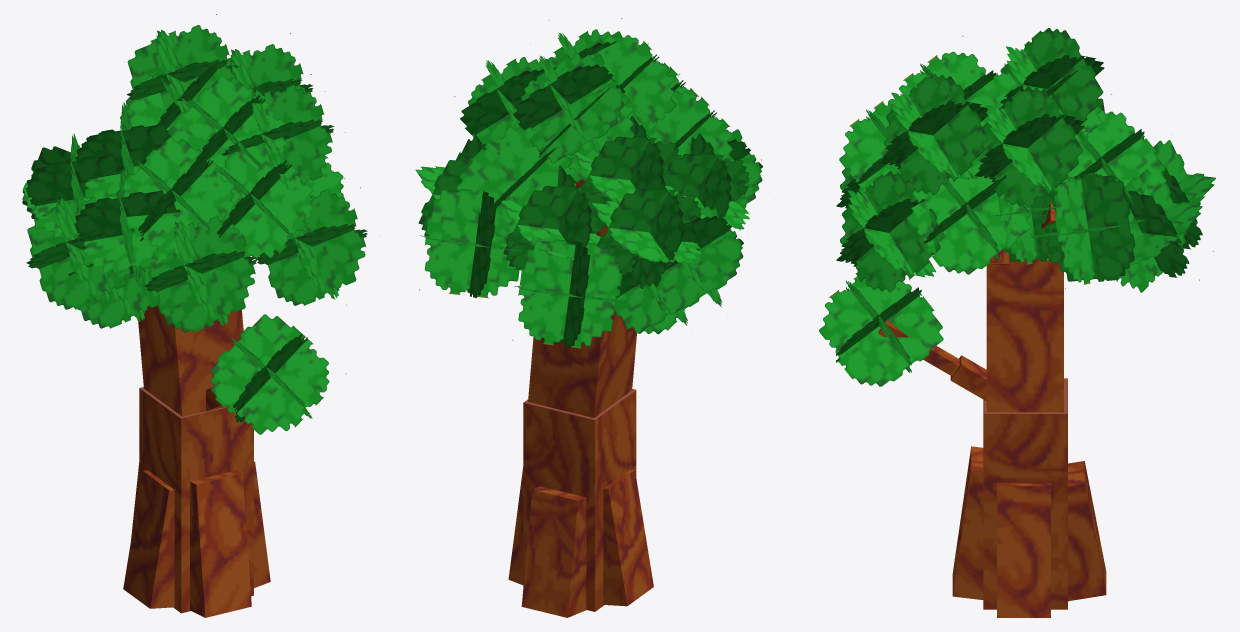
The model's file is basic_tree.obj.
3 renders of one model, left to right at view 1: azimuth 30°, elevation 25°; view 2: azimuth 150°, elevation 25°; view 3: azimuth 270°, elevation 25°, orthographic. The views are drawn at different scales.
Visible parts, largest first — view 1: cube, Trunk; view 2: cube, Trunk; view 3: cube, Trunk.
Boxes of the visible parts, x1,y1,x2,y2 form: cube: (22,14,379,434); Trunk: (123,306,270,617); cube: (415,18,762,348); Trunk: (508,179,653,617); cube: (819,28,1215,386); Trunk: (878,201,1106,617).
Size of the model in its own units: 6.75 by 11.57 by 7.83.
Materials: 1 (1 with a texture image).
